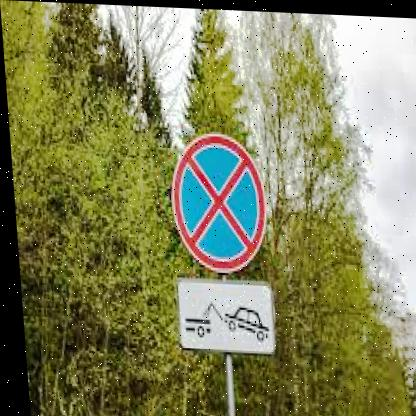No stopping: (164, 131, 271, 270)
